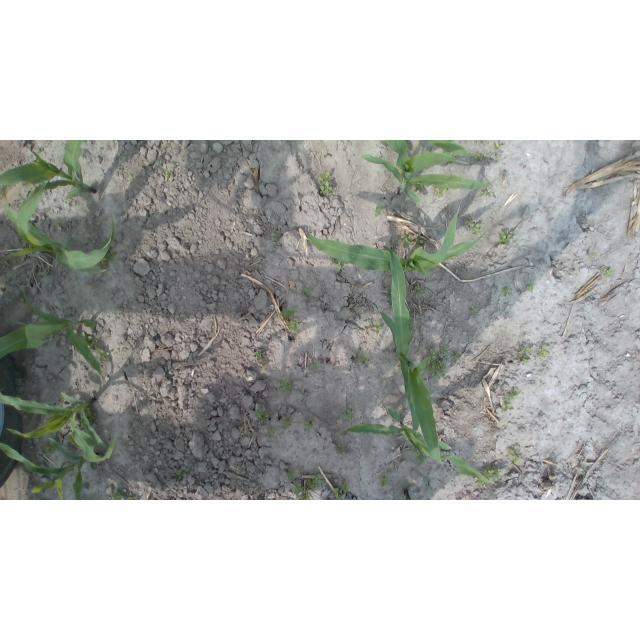Maize: (381, 243, 450, 473), (303, 199, 488, 278), (351, 403, 496, 488), (1, 140, 99, 246), (2, 284, 106, 380), (0, 388, 118, 461), (0, 200, 116, 274), (362, 140, 493, 204), (0, 437, 94, 499)
Weeds: (67, 331, 113, 370), (426, 344, 460, 383), (287, 469, 319, 498), (474, 140, 505, 165), (479, 466, 502, 489), (283, 308, 302, 333), (504, 388, 523, 409), (332, 479, 352, 497), (318, 170, 332, 195), (466, 216, 482, 237), (400, 234, 424, 248), (82, 405, 97, 426), (510, 444, 524, 465), (517, 345, 535, 361), (107, 490, 133, 500), (499, 228, 513, 244), (483, 179, 497, 195), (353, 354, 369, 367), (537, 345, 550, 360), (604, 264, 616, 280), (254, 407, 267, 421), (279, 379, 292, 393), (371, 318, 382, 334), (281, 415, 292, 430), (341, 410, 354, 422), (435, 185, 449, 196), (415, 285, 426, 299), (589, 250, 599, 263), (254, 349, 263, 363), (525, 283, 536, 294), (268, 424, 276, 437), (375, 204, 383, 217), (503, 287, 512, 298), (306, 418, 314, 430), (273, 229, 282, 239), (383, 475, 388, 492), (337, 444, 344, 453), (305, 286, 312, 295), (178, 469, 183, 481), (470, 309, 483, 313)
